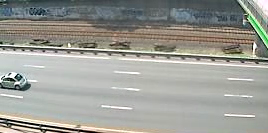car: (1, 71, 31, 92)
